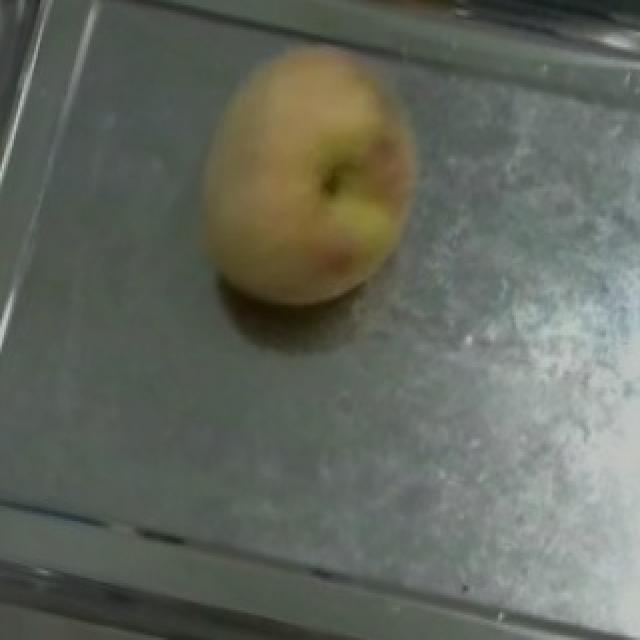Fruit: (154, 20, 462, 342)
